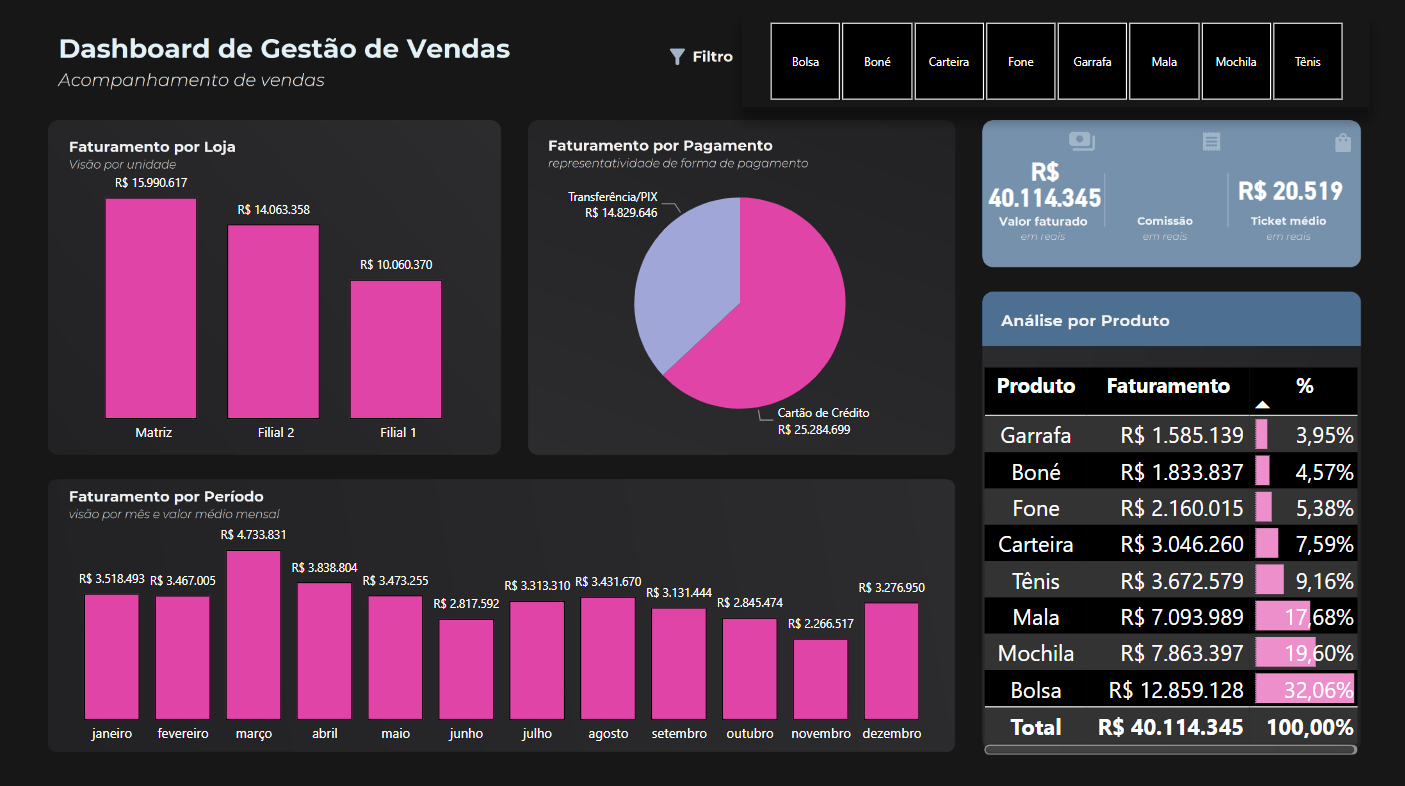

Layout of this report page (visuals, bound fields, positions):
{"tool":"powerbi","page":{"name":"Página 1","canvas":[1280,720],"ordinal":0},"visuals":[{"type":"card","title":"Faturamento","fields":{"Values":["Sum(Vendas.Valor venda)"]},"box":[889,110,122,118],"z":0},{"type":"card","title":"Ticket Médio","fields":{"Values":["Avg(Vendas.Valor venda)"]},"box":[1102,110,143,130],"z":1000},{"type":"clusteredColumnChart","title":"Faturamento p/ período","fields":{"Category":["Vendas.Data pedido.Variation.Hierarquia de datas.Mês"],"Y":["Sum(Vendas.Valor venda)"]},"box":[45,466,822,220],"z":2000},{"type":"pieChart","title":"Formas de pagamento","fields":{"Y":["Sum(Vendas.Valor venda)"],"Category":["Vendas.Pagamento"]},"box":[478,142,389,271],"z":3000},{"type":"clusteredColumnChart","title":"Vendas por loja","fields":{"Y":["Sum(Vendas.Valor venda)"],"Category":["Lojas.nome_loja"]},"box":[45,142,411,271],"z":4000},{"type":"tableEx","fields":{"Values":["Vendas.Produto","Sum(Vendas.Valor venda)","Divide(Sum(Vendas.Valor venda), ScopedEval(Sum(Vendas.Valor venda), []))"]},"box":[889.4,330.6,350,362.4],"z":5000},{"type":"slicer","fields":{"Values":["Vendas.Produto"]},"box":[674.5,15.5,570,83.6],"z":6000}]}

Visuals, with their boxes in screenshot pixels (x1, y1, x2, y2), scaled from the page's 1280x720 canvas onto the 1405x786 screenshot:
"Faturamento" card: (976, 120, 1110, 249)
"Ticket Médio" card: (1210, 120, 1367, 262)
"Faturamento p/ período" clusteredColumnChart: (49, 509, 952, 749)
"Formas de pagamento" pieChart: (525, 155, 952, 451)
"Vendas por loja" clusteredColumnChart: (49, 155, 501, 451)
tableEx - Vendas.Produto x Sum(Vendas.Valor venda): (976, 361, 1360, 757)
slicer - Vendas.Produto: (740, 17, 1366, 108)
